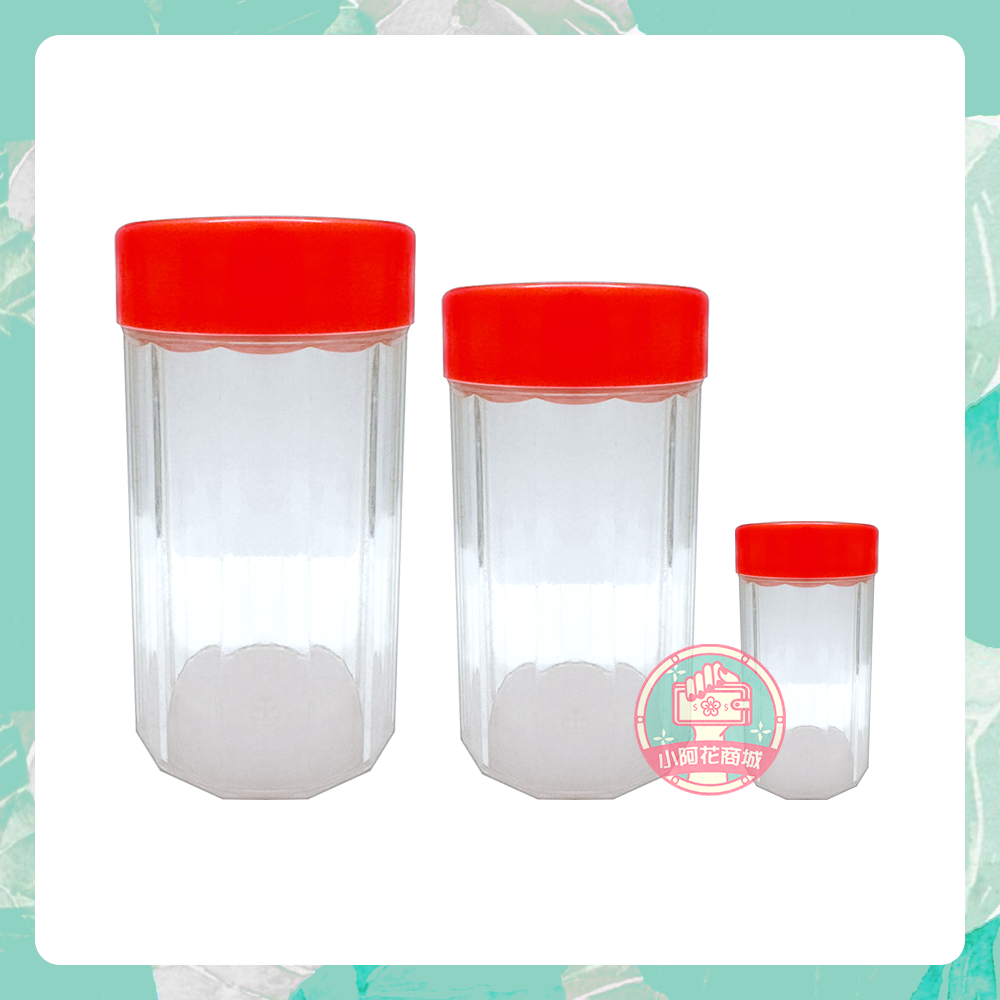medicinejar: (111, 217, 424, 805), (441, 287, 712, 802), (731, 520, 881, 802)
